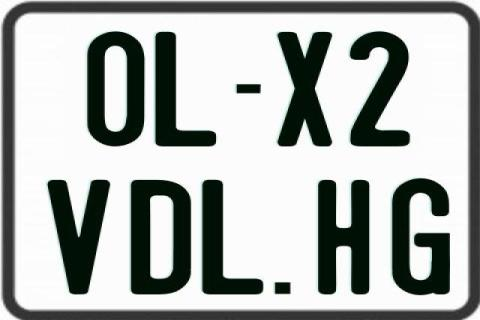0: (84, 29, 148, 145), (349, 32, 410, 152)
D: (131, 178, 194, 296)
G: (390, 179, 449, 297)
H: (316, 178, 369, 294)
L: (153, 32, 218, 146), (202, 178, 264, 294)
V: (44, 178, 112, 292)
X: (277, 32, 335, 149)
